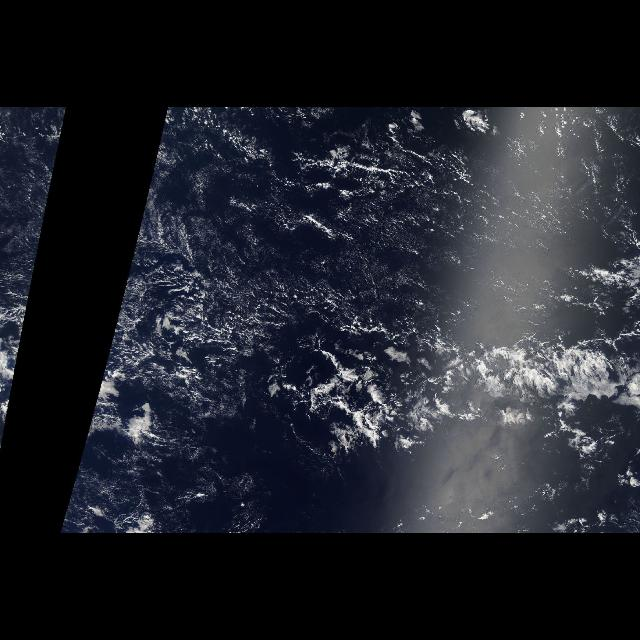Fish: (258, 298, 640, 446)
Gravel: (135, 242, 393, 398)
Sugar: (119, 111, 639, 326), (1, 111, 67, 299)
